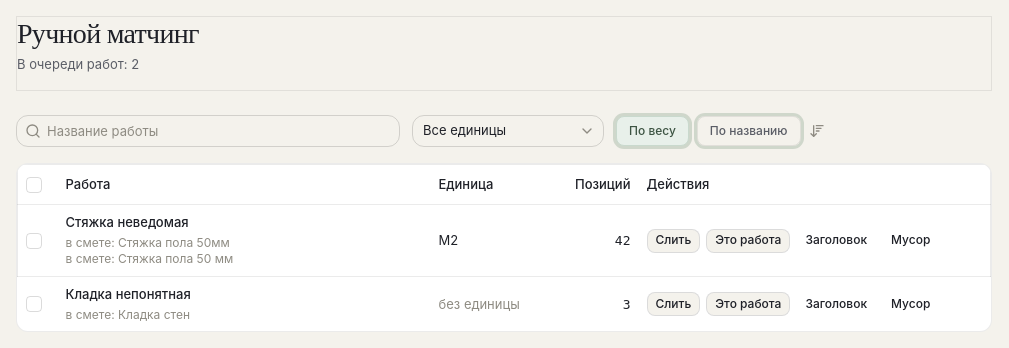
Scenario: Экран «Ручной матчинг» (§7.2) › фильтр «без единицы» оставляет только строки без единицы
The width and height of the screenshot is (1009, 348).
Expected: the text "Стяжка неведомая" is shown, [66,214,189,230]
Click the dropdown named "Единица измерения" at (508, 131), box [412,115,604,147]
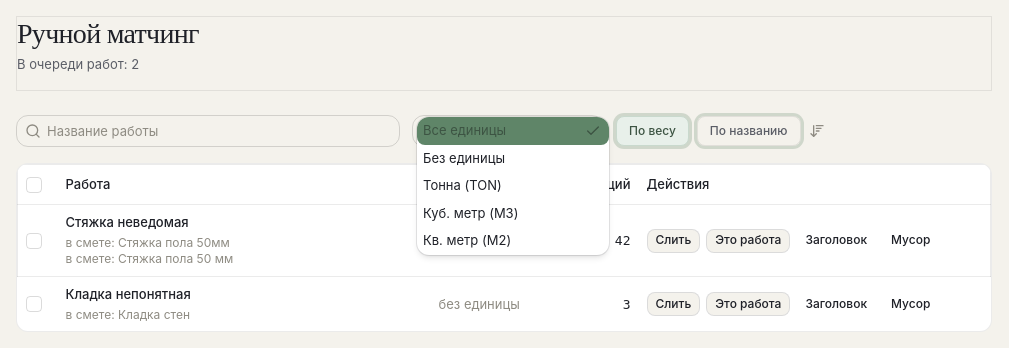
Click the option "Без единицы" at (464, 158), box [423,150,505,166]
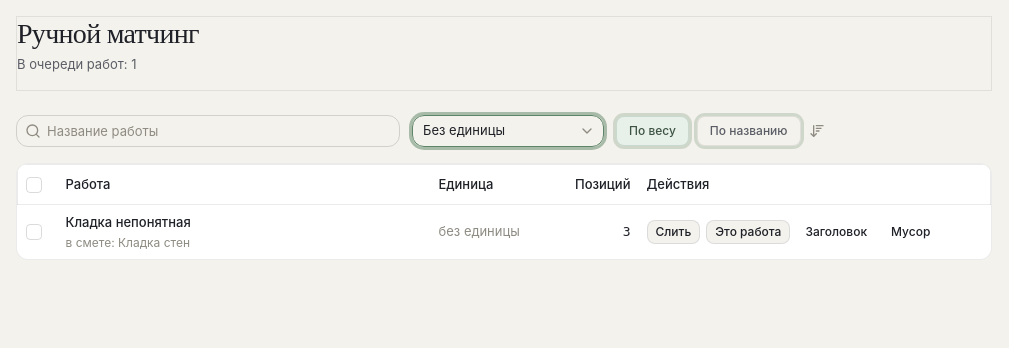
Expected: the text "Кладка непонятная" is shown, [66,214,191,230]
Expected: the text "Стяжка неведомая" is gone
